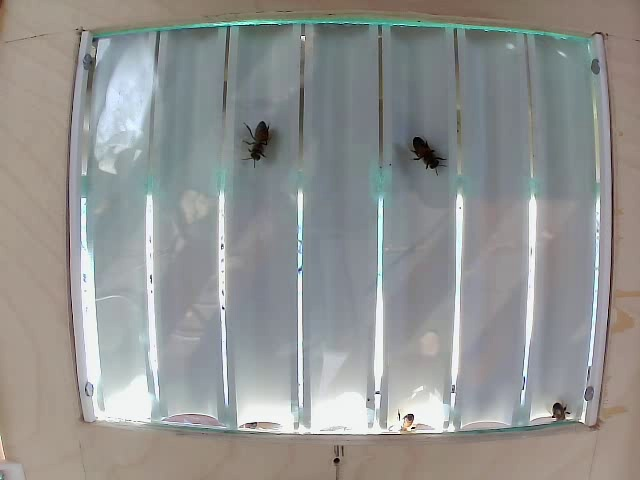bee: (411, 129, 447, 183), (242, 127, 282, 167)
